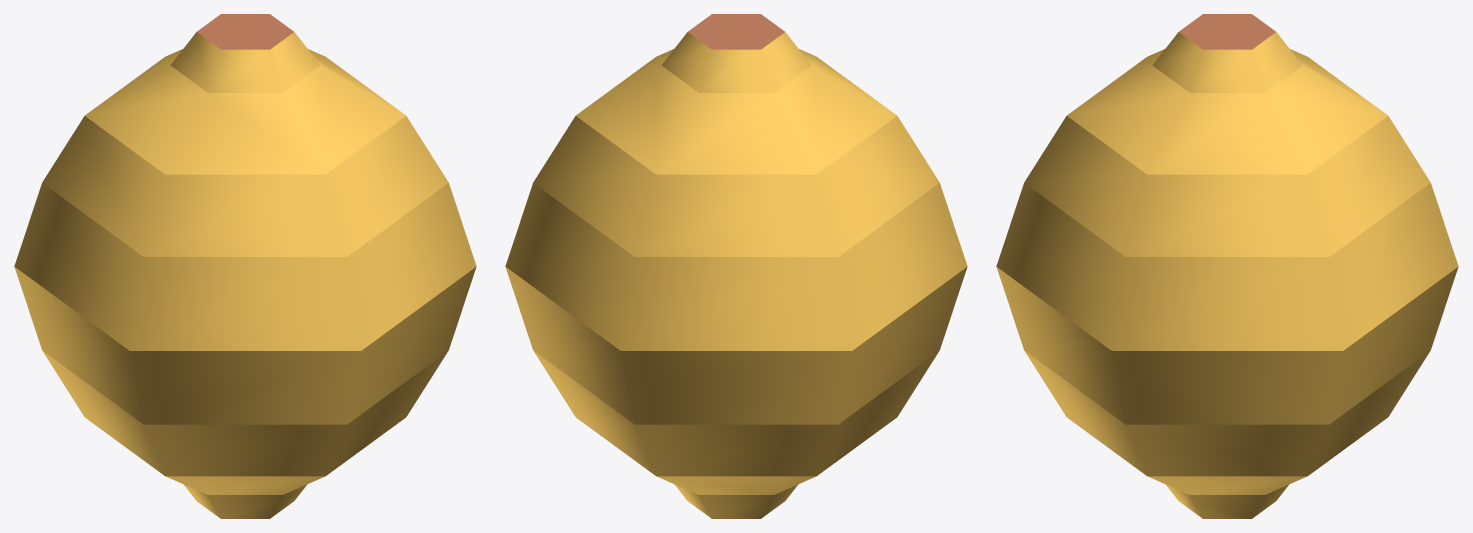
File: Lemon.glb
3 renders of one model, left to right at view 1: azimuth 30°, elevation 25°; view 2: azimuth 150°, elevation 25°; view 3: azimuth 270°, elevation 25°, orthographic.
Parts seen in each view (by area): view 1: lemon; view 2: lemon; view 3: lemon.
Boxes of the visible parts, x1,y1,x2,y2 form: lemon: (14, 14, 476, 518); lemon: (505, 14, 967, 518); lemon: (996, 14, 1458, 518).
Size of the model in its own units: 0.1732 by 0.224 by 0.2.
